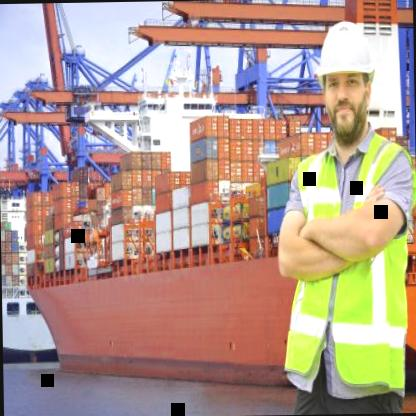helmet: (309, 12, 386, 148)
